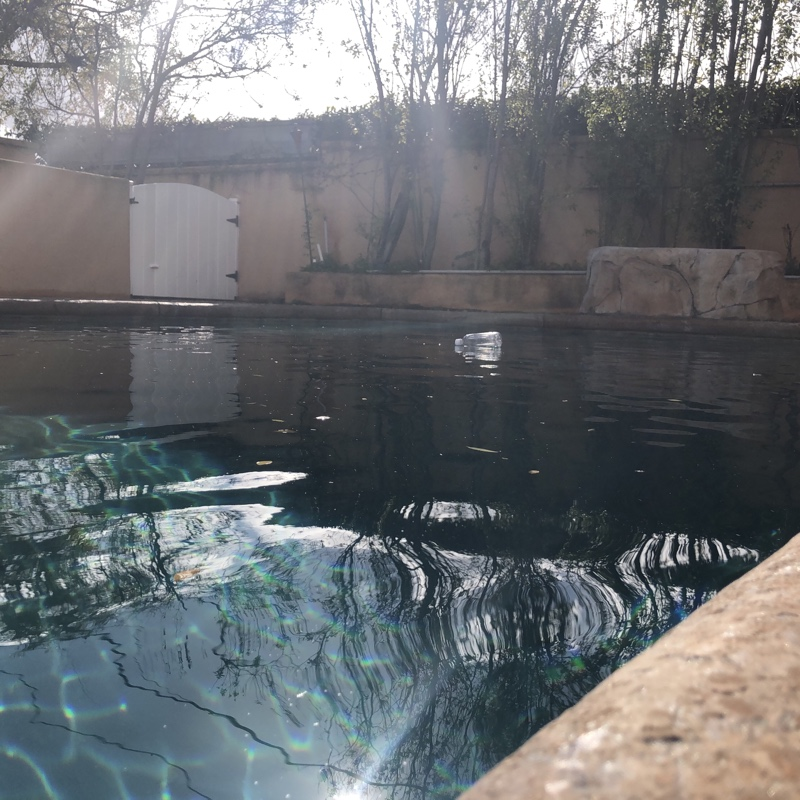Plastic Bottle: (451, 330, 501, 348)
